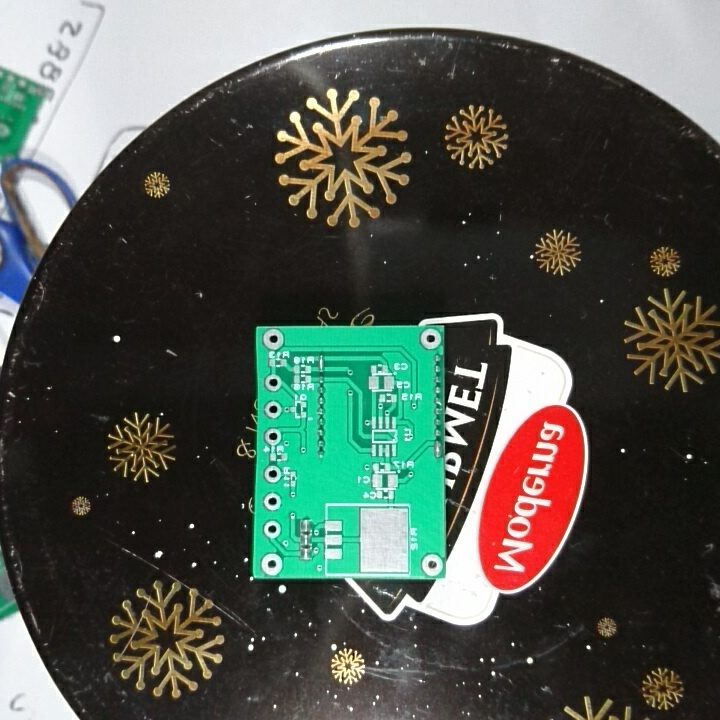F: (419, 552, 445, 578), (260, 327, 287, 352), (419, 327, 443, 352), (259, 552, 284, 576), (262, 398, 282, 423), (260, 492, 282, 513), (262, 463, 282, 485), (262, 426, 283, 446), (262, 519, 282, 540), (263, 371, 282, 393)
P: (316, 351, 329, 373), (432, 440, 444, 460)
